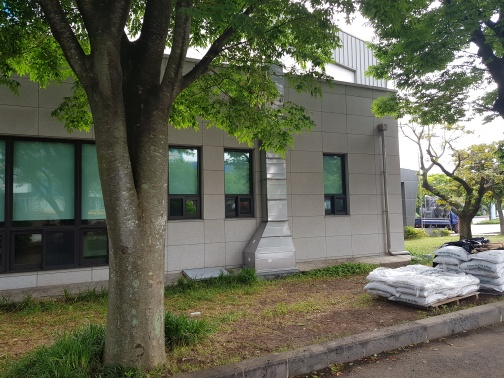Gym: (20, 56, 429, 266)
